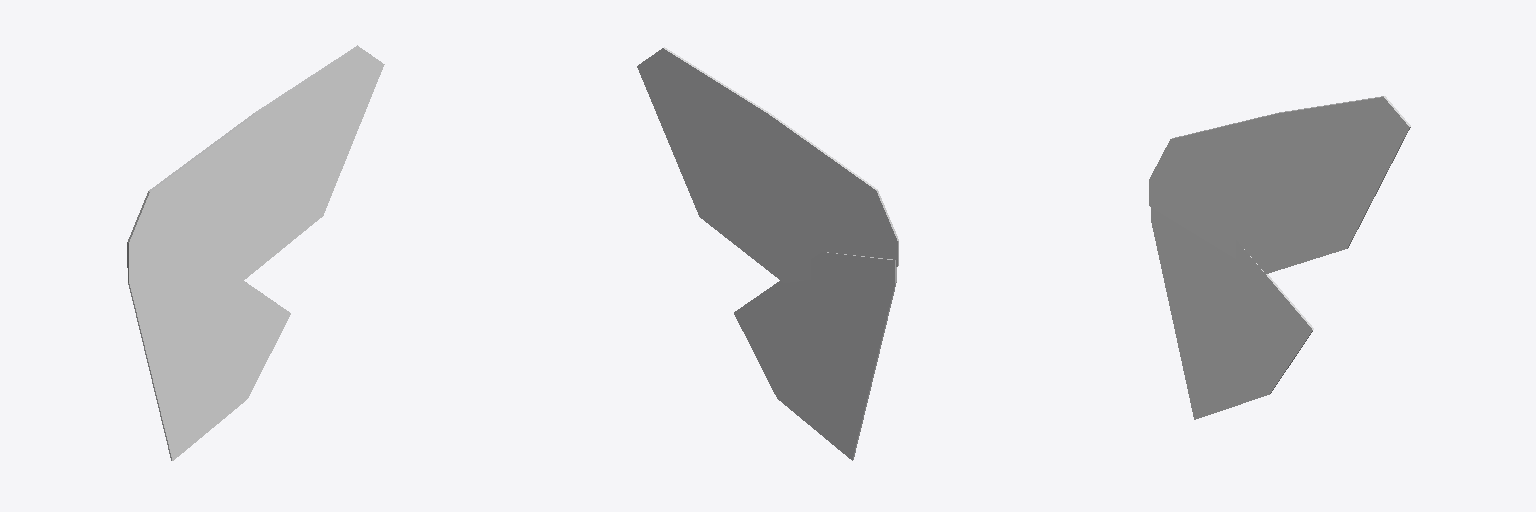
The picture shows the model from 3 angles: view 1: azimuth 30°, elevation 25°; view 2: azimuth 150°, elevation 25°; view 3: azimuth 330°, elevation 25°; orthographic projection.
Parts seen in each view (by area): view 1: MOB_moth_WingR2:HANE_R1, MOB_moth_WingR2:HANE_R1HANNE_R2; view 2: MOB_moth_WingR2:HANE_R1, MOB_moth_WingR2:HANE_R1HANNE_R2; view 3: MOB_moth_WingR2:HANE_R1, MOB_moth_WingR2:HANE_R1HANNE_R2.
Boxes of the visible parts, box(x1,y1,x2,y2) form: MOB_moth_WingR2:HANE_R1: box(127, 45, 384, 279); MOB_moth_WingR2:HANE_R1HANNE_R2: box(128, 260, 290, 460); MOB_moth_WingR2:HANE_R1: box(637, 47, 898, 282); MOB_moth_WingR2:HANE_R1HANNE_R2: box(734, 252, 896, 460); MOB_moth_WingR2:HANE_R1: box(1149, 96, 1410, 273); MOB_moth_WingR2:HANE_R1HANNE_R2: box(1151, 208, 1313, 419).
Bounding box in the file's own units: 0.4798 × 0.6532 × 0.0132.
Materials: 1 (1 with a texture image).